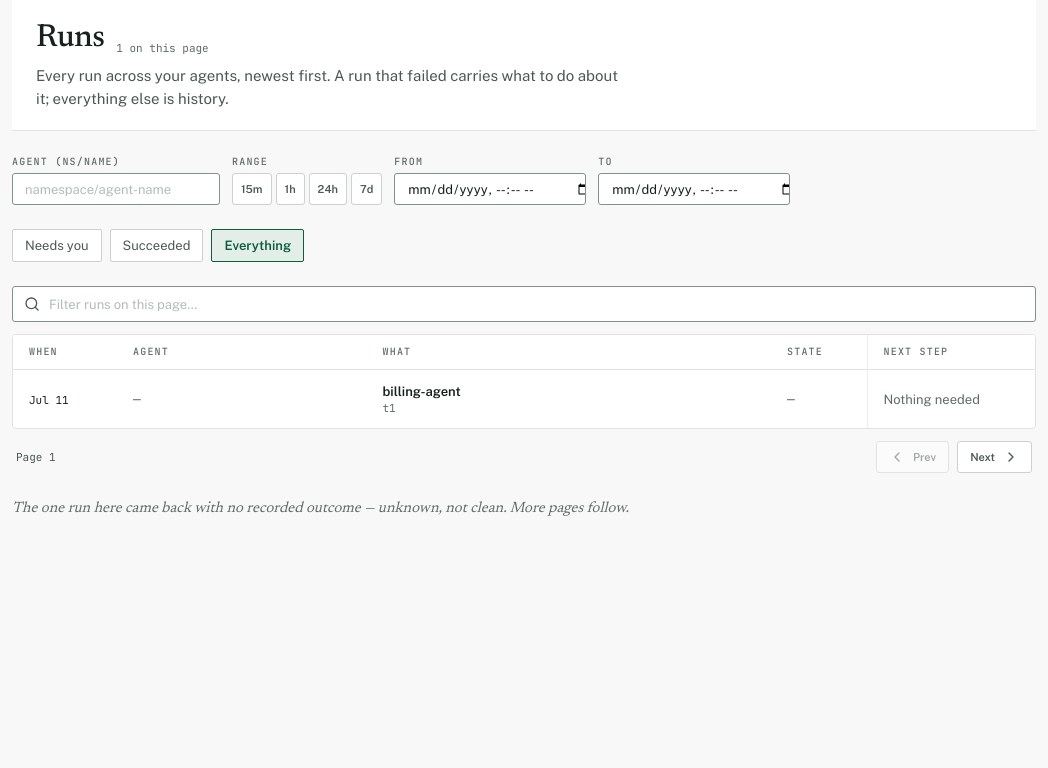
it: RunsPage — q short-page: nextCursor present → offer load more (m16.8) › empty q-filtered page with nextCursor still offers Next, does NOT show bare 'no results'
expect the text "billing-agent" is shown: met, box [382,384,461,399]
Type "zzz-no-match" into the field named "Filter list".
click(524, 304); type("zzz-no-match")  # box [12,286,1036,322]
(page scrolled)
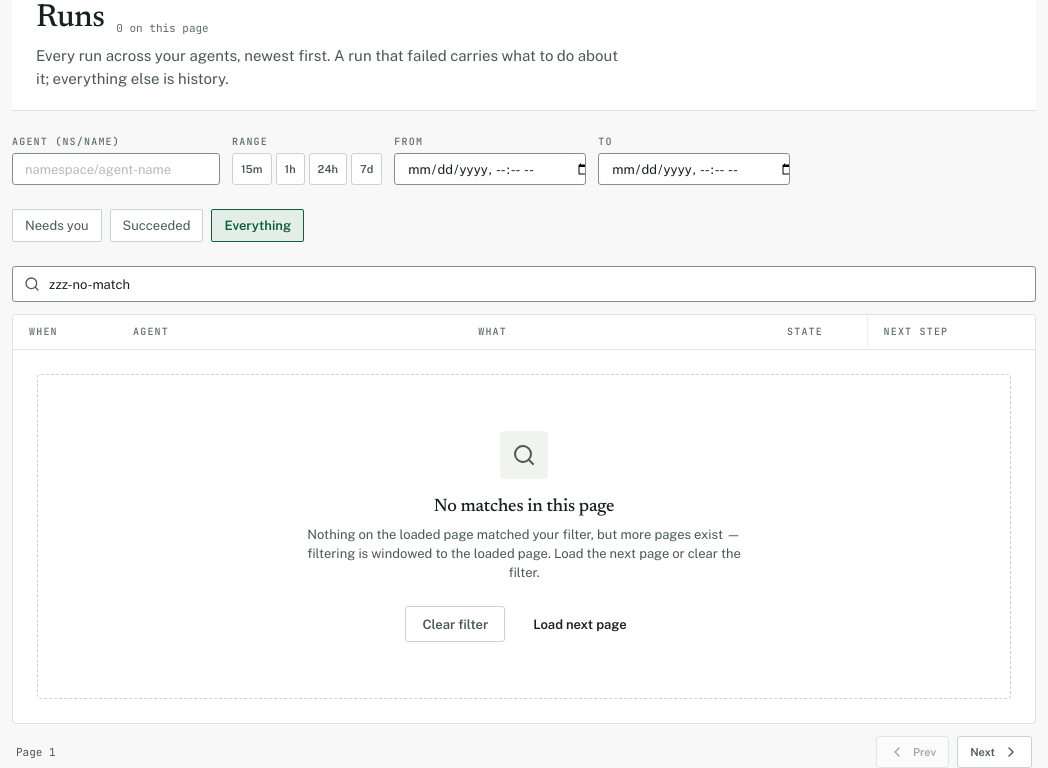
expect the button with aria-label "Next page" is enabled: met, box [957,736,1032,767]
expect the heading "No matches in this page" is shown: met, box [434,495,614,519]
